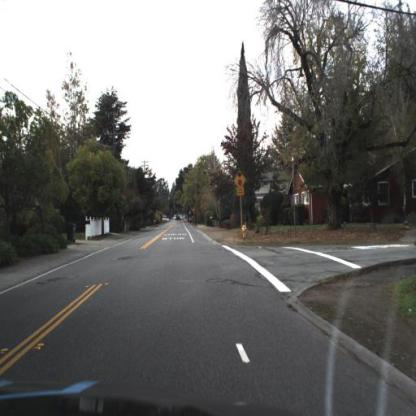car: (190, 217, 196, 225), (167, 219, 171, 223), (174, 218, 177, 221)
truck: (177, 216, 185, 222), (163, 216, 168, 224)
